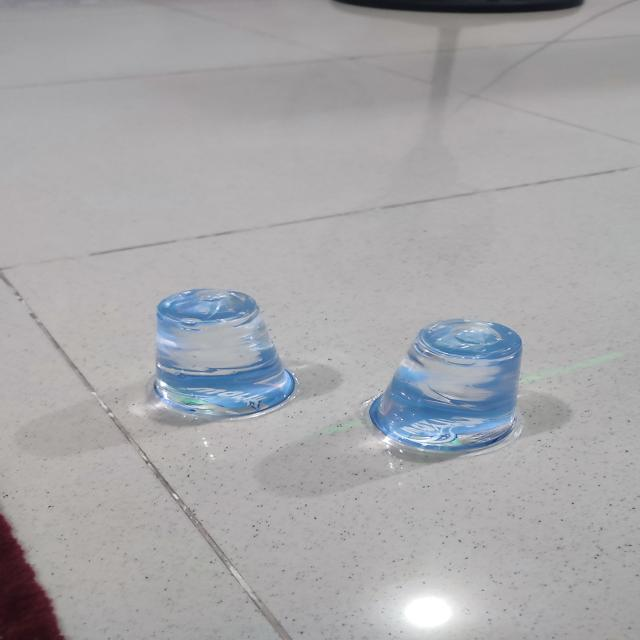air gelas: (357, 313, 540, 452), (146, 283, 299, 423)
